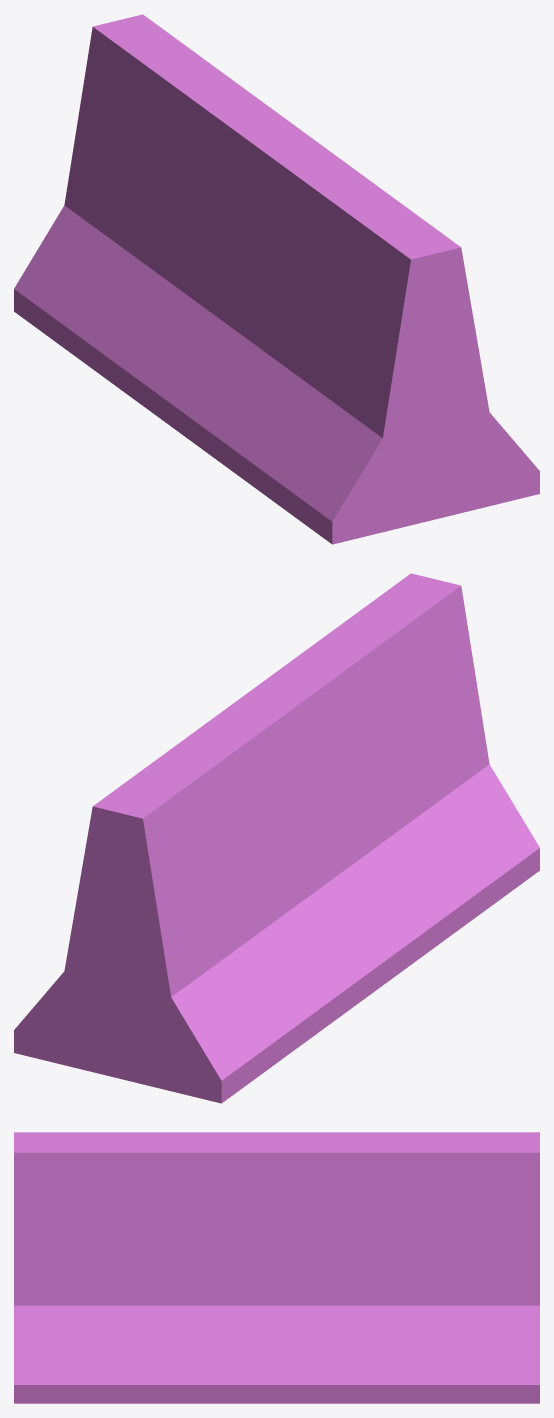
The model's file is Roadblock.fbx.
3 views of the same model, one above another, from view 1: azimuth 30°, elevation 25°; view 2: azimuth 150°, elevation 25°; view 3: azimuth 270°, elevation 25° (orthographic). The views are drawn at different scales.
Visible parts, largest first — view 1: Roadblock; view 2: Roadblock; view 3: Roadblock.
Part boxes in pixels (box(x1,y1,x2,y2)): Roadblock: box(14, 14, 539, 544); Roadblock: box(14, 573, 539, 1103); Roadblock: box(14, 1132, 539, 1403).
Bounding box in the file's own units: 103 × 126 × 273.
